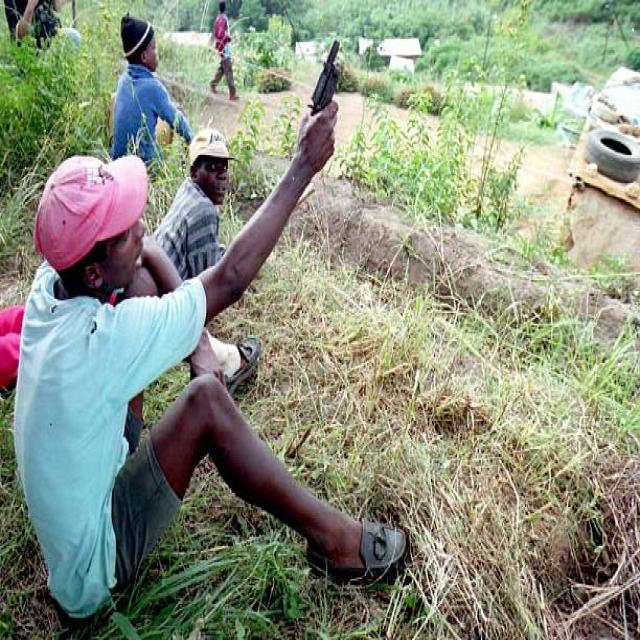civilian: (111, 14, 191, 164), (154, 128, 230, 279), (210, 0, 234, 99)
terrorist: (14, 41, 408, 617)
